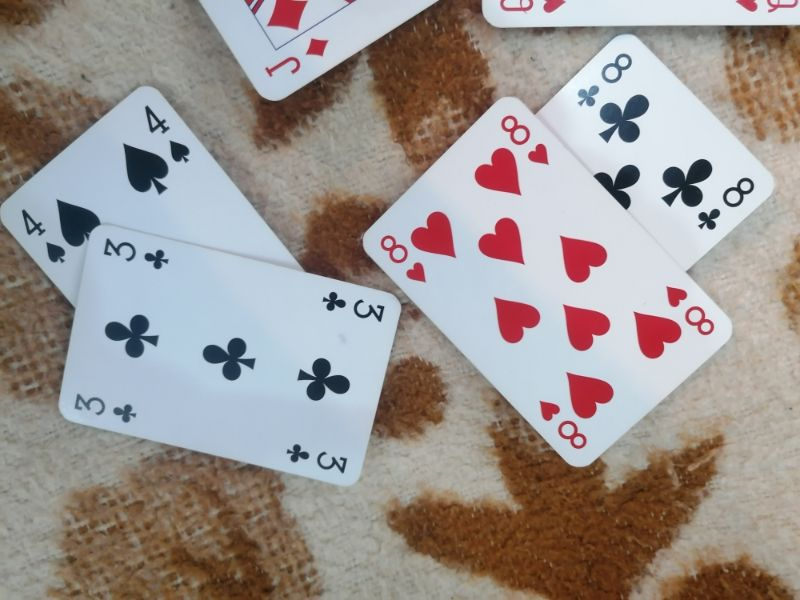3c: (100, 233, 172, 275), (319, 288, 390, 324), (71, 390, 139, 426), (282, 440, 349, 476)
4s: (141, 102, 193, 166), (17, 208, 71, 266)
8c: (696, 174, 761, 234), (575, 48, 638, 109)
8h: (497, 111, 557, 169), (663, 282, 717, 339), (377, 231, 432, 286), (535, 397, 590, 451)
Jd: (264, 32, 332, 80)
